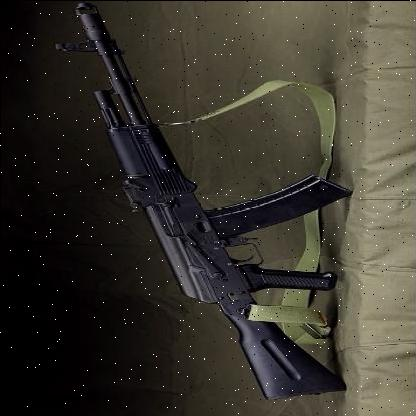rifle: (61, 21, 349, 400)
